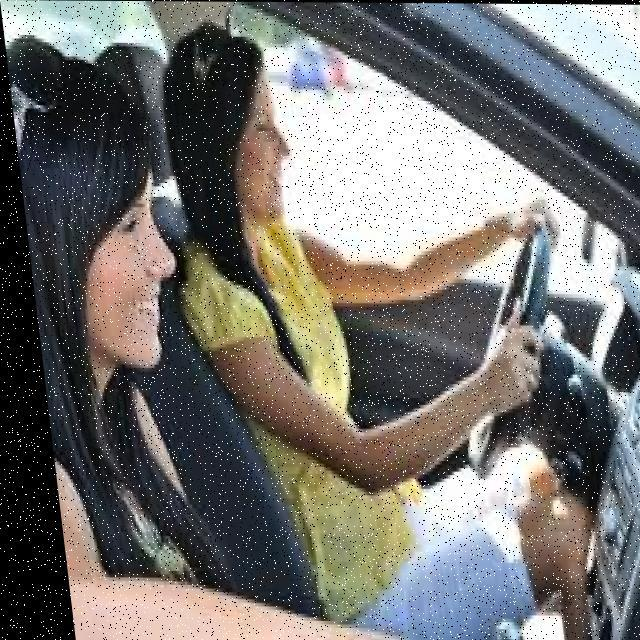noSeatbelt: (156, 155, 394, 596)
